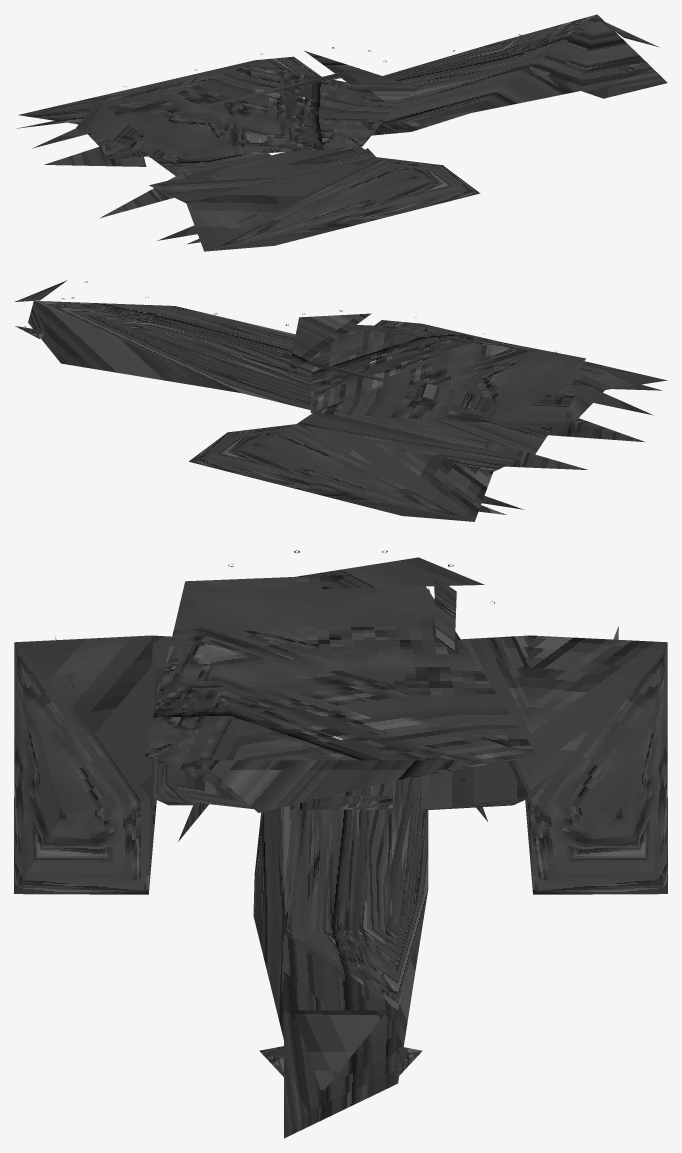
The picture shows the model from 3 angles, top to bottom: view 1: azimuth 30°, elevation 25°; view 2: azimuth 150°, elevation 25°; view 3: azimuth 270°, elevation 25°; orthographic projection. The views are drawn at different scales.
Parts seen in each view (by area): view 1: Object_2; view 2: Object_2; view 3: Object_2.
Part boxes in pixels (<box>): Object_2: <box>16,14,667,251</box>; Object_2: <box>15,280,667,521</box>; Object_2: <box>14,550,667,1138</box>.
Size of the model in its own units: 657 by 83.69 by 363.
Materials: 1 (1 with a texture image).
